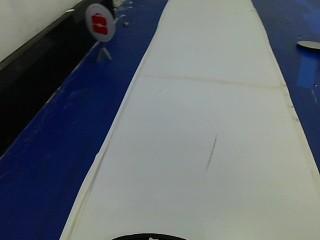company: (82, 1, 116, 42)
